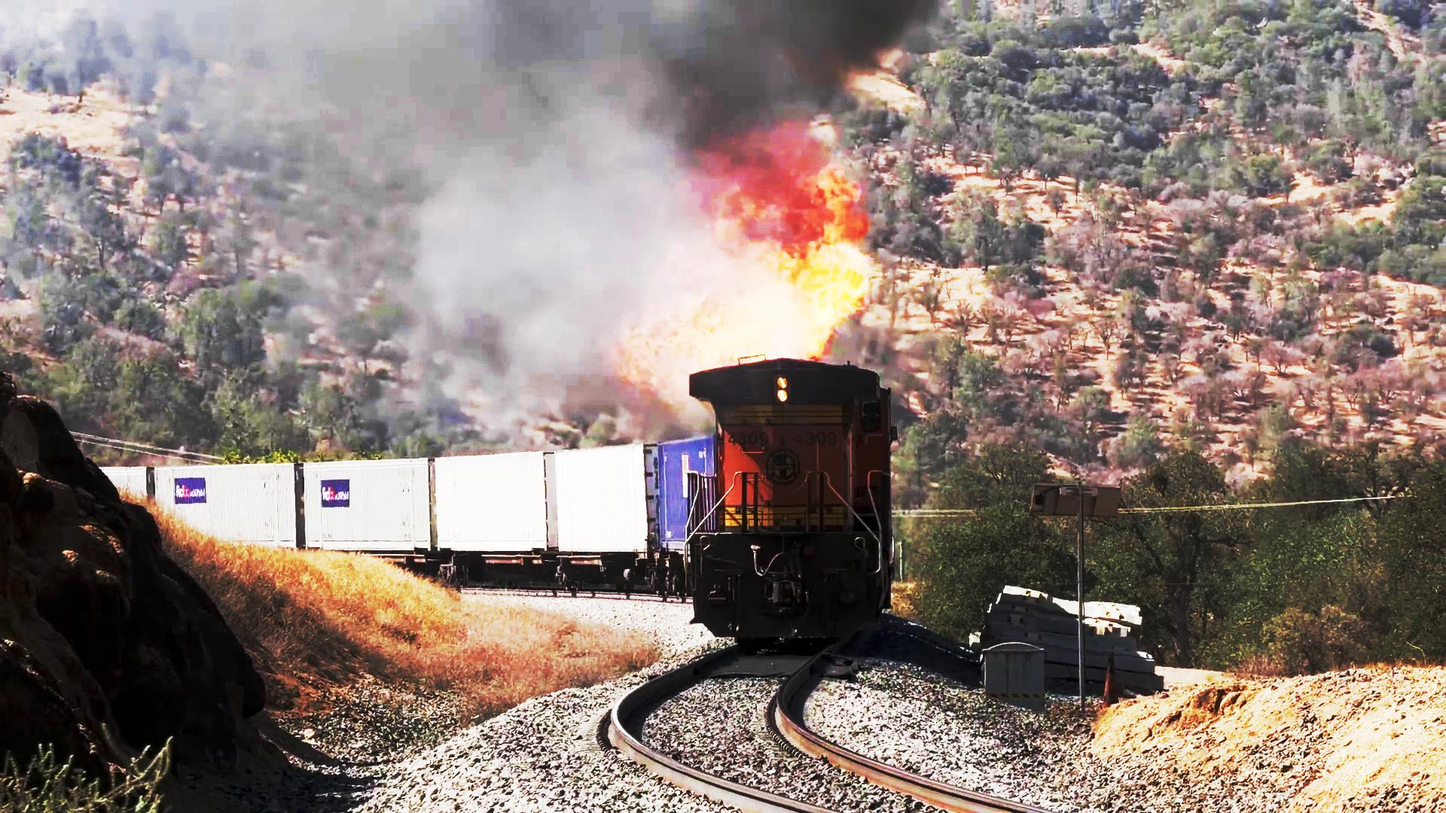fire: (618, 142, 866, 387)
